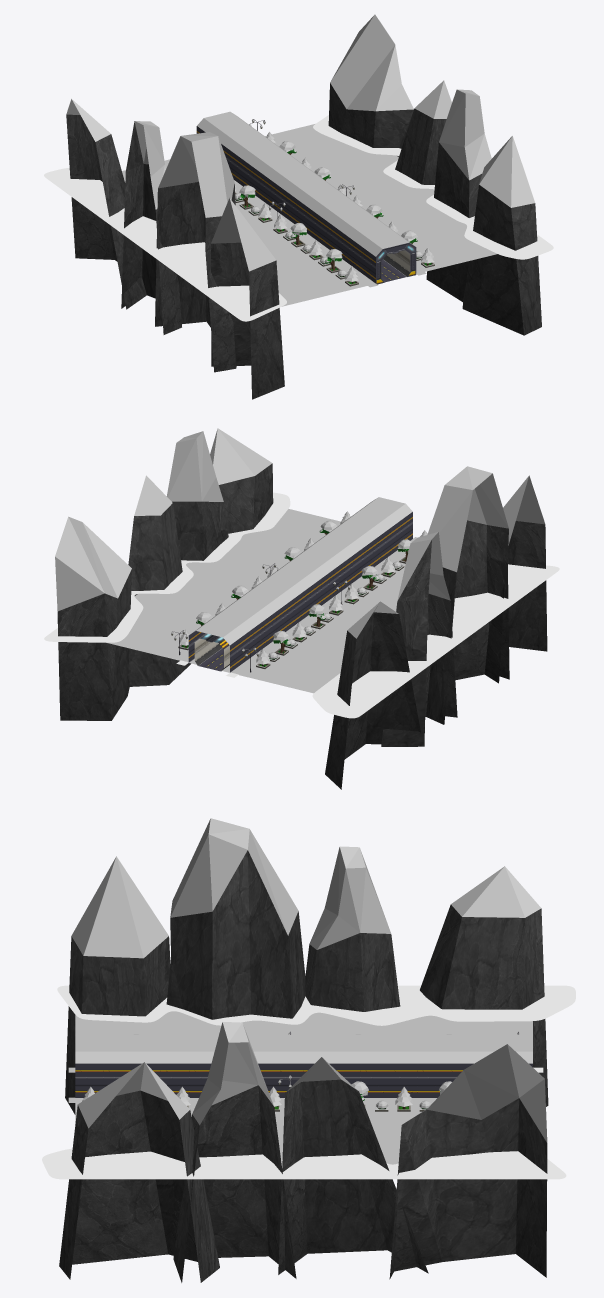
The model's file is citywinter_19.fbx.
3 views of the same model, one above another, from view 1: azimuth 30°, elevation 25°; view 2: azimuth 150°, elevation 25°; view 3: azimuth 270°, elevation 25° (orthographic). The views are drawn at different scales.
Visible parts, largest first — view 1: City_19; view 2: City_19; view 3: City_19.
Boxes of the visible parts, box(x1,y1,x2,y2) form: City_19: box(44, 14, 553, 399); City_19: box(44, 428, 559, 789); City_19: box(42, 818, 575, 1282).
Size of the model in its own units: 22617 by 13384 by 25170.
